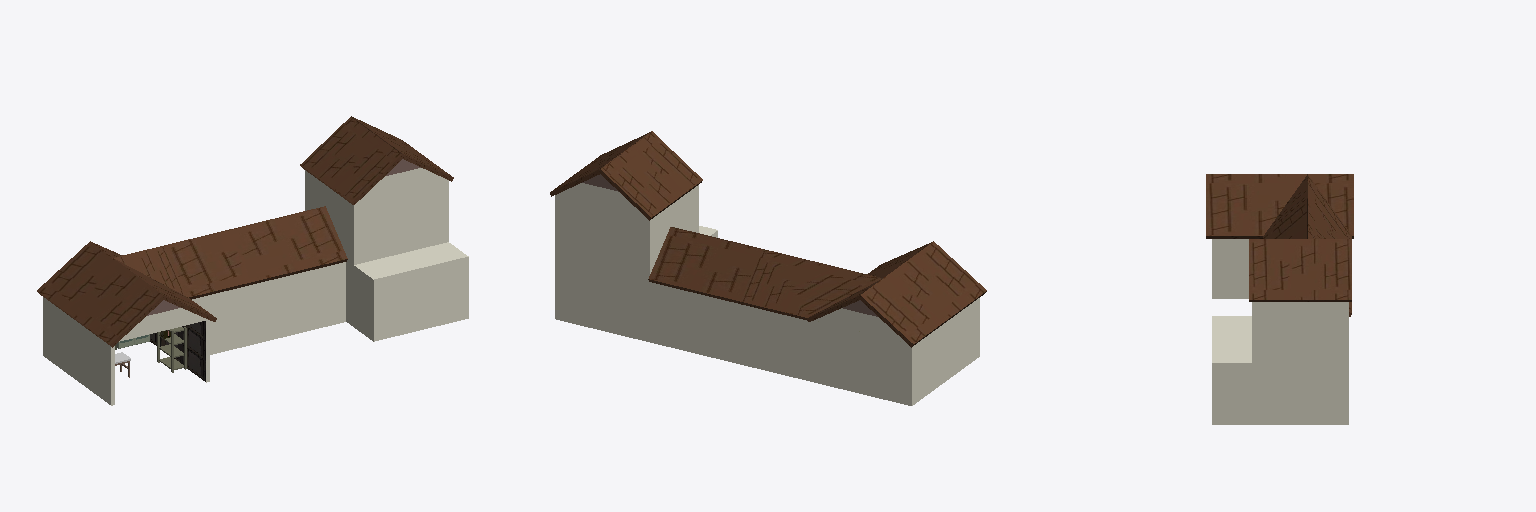
3 renders of one model, left to right at view 1: azimuth 30°, elevation 25°; view 2: azimuth 150°, elevation 25°; view 3: azimuth 270°, elevation 25°, orthographic.
Parts seen in each view (by area): view 1: polySurface169, polySurface175 polySurface161, pCube6, pCube5, polySurface161 polySurface171, pasted__pCube1 group10, pCube1, polySurface160 polySurface164, estante:group5_estante:pasted__group3_estante:pasted__pasted__pC; view 2: polySurface169, polySurface161 polySurface171, pCube5, pCube6, polySurface165 polySurface160, polySurface161 polySurface173, pasted__pasted__pasted__pasted__pCube2 pasted__pasted__pasted__g, pasted__pCube1 group10, pasted__pasted__pasted__pCube2 pasted__pasted__group12 pasted__g; view 3: polySurface169, pCube6, pCube5, pCube1, polySurface165 polySurface160, polySurface175 polySurface161, polySurface160 polySurface164.
Boxes of the visible parts, box(x1,y1,x2,y2) form: polySurface169: box(300, 116, 453, 264); polySurface175 polySurface161: box(165, 206, 347, 299); pCube6: box(346, 242, 468, 341); pCube5: box(37, 241, 216, 347); polySurface161 polySurface171: box(192, 262, 345, 354); pasted__pCube1 group10: box(43, 297, 114, 405); pCube1: box(150, 320, 209, 382); polySurface160 polySurface164: box(114, 246, 185, 295); estante:group5_estante:pasted__group3_estante:pasted__pasted__pC: box(157, 327, 186, 372); polySurface169: box(550, 131, 702, 279); polySurface161 polySurface171: box(650, 282, 812, 381); pCube5: box(807, 241, 986, 347); pCube6: box(555, 226, 717, 341); polySurface165 polySurface160: box(740, 249, 883, 320); polySurface161 polySurface173: box(648, 227, 822, 303); pasted__pasted__pasted__pasted__pCube2 pasted__pasted__pasted__g: box(815, 321, 885, 399); pasted__pCube1 group10: box(910, 298, 979, 405); pasted__pasted__pasted__pCube2 pasted__pasted__group12 pasted__g: box(886, 338, 909, 405); polySurface169: box(1249, 239, 1351, 362); pCube6: box(1212, 316, 1348, 424); pCube5: box(1206, 174, 1353, 238); pCube1: box(1212, 239, 1248, 298); polySurface165 polySurface160: box(1308, 175, 1351, 238); polySurface175 polySurface161: box(1263, 200, 1306, 238); polySurface160 polySurface164: box(1265, 174, 1307, 233).
Bounding box in the file's own units: 92.2 × 39.33 × 32.22.
52 materials, 28 textured.